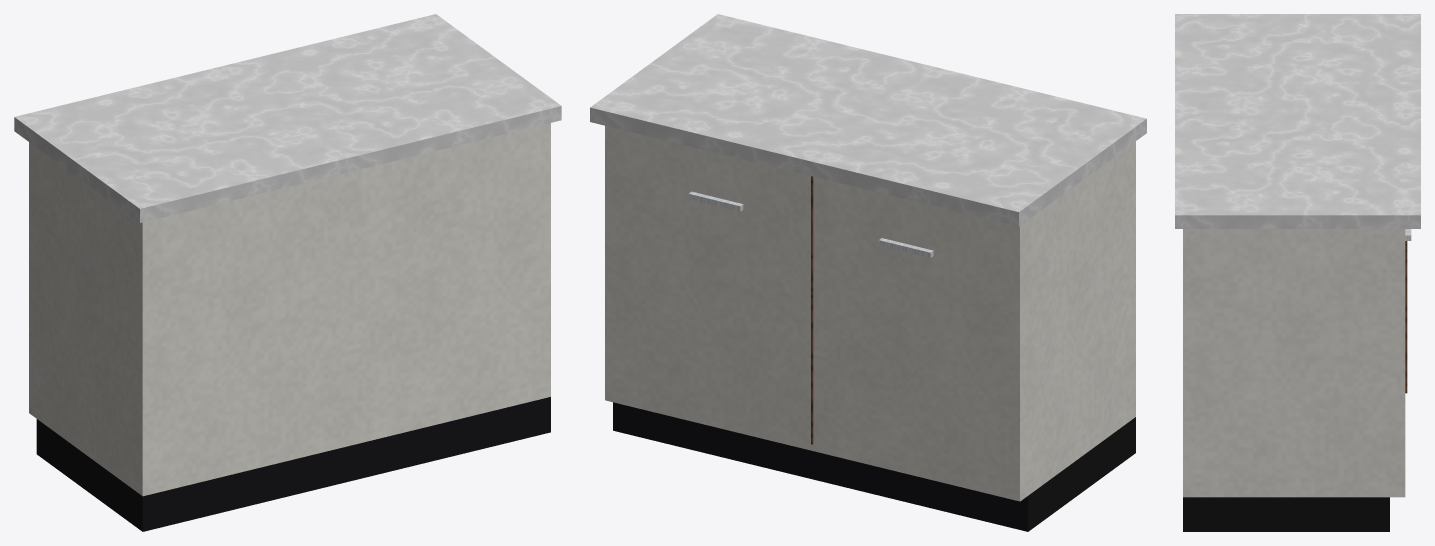
File: kitchen_counter.obj
The picture shows the model from 3 angles, left to right: view 1: azimuth 30°, elevation 25°; view 2: azimuth 150°, elevation 25°; view 3: azimuth 270°, elevation 25°; orthographic projection. The views are drawn at different scales.
Visible parts, largest first — view 1: kitchen_counter; view 2: kitchen_counter; view 3: kitchen_counter.
Part boxes in pixels (box(x1,y1,x2,y2)): kitchen_counter: box(14, 14, 561, 531); kitchen_counter: box(590, 14, 1146, 531); kitchen_counter: box(1175, 14, 1420, 531).
Size of the model in its own units: 1.24 by 0.92 by 0.64.
Materials: 5 (4 with a texture image).
